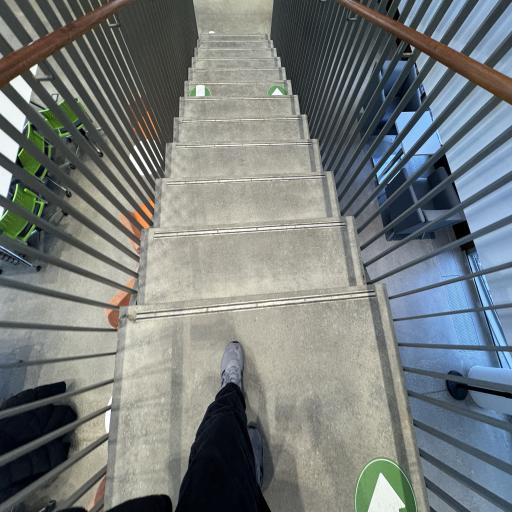Stairs: (105, 34, 428, 512)
